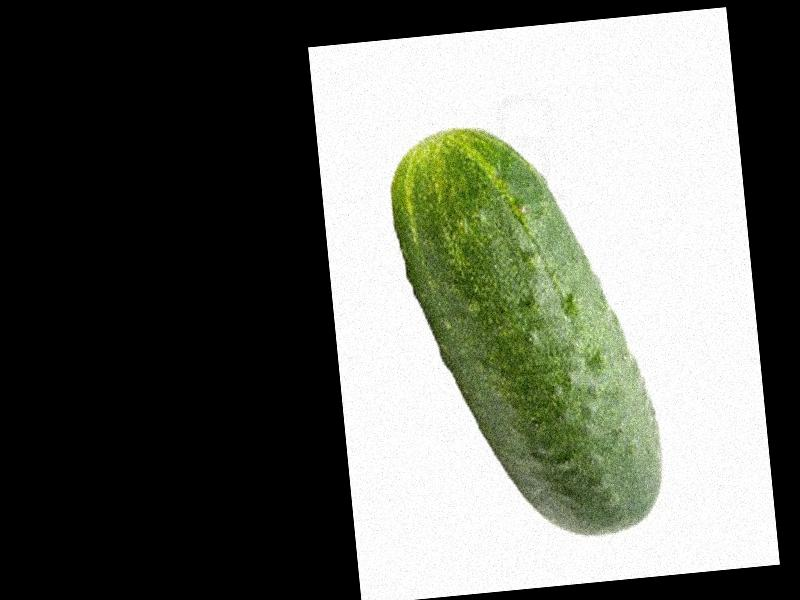Cucumber: (388, 110, 670, 551)
